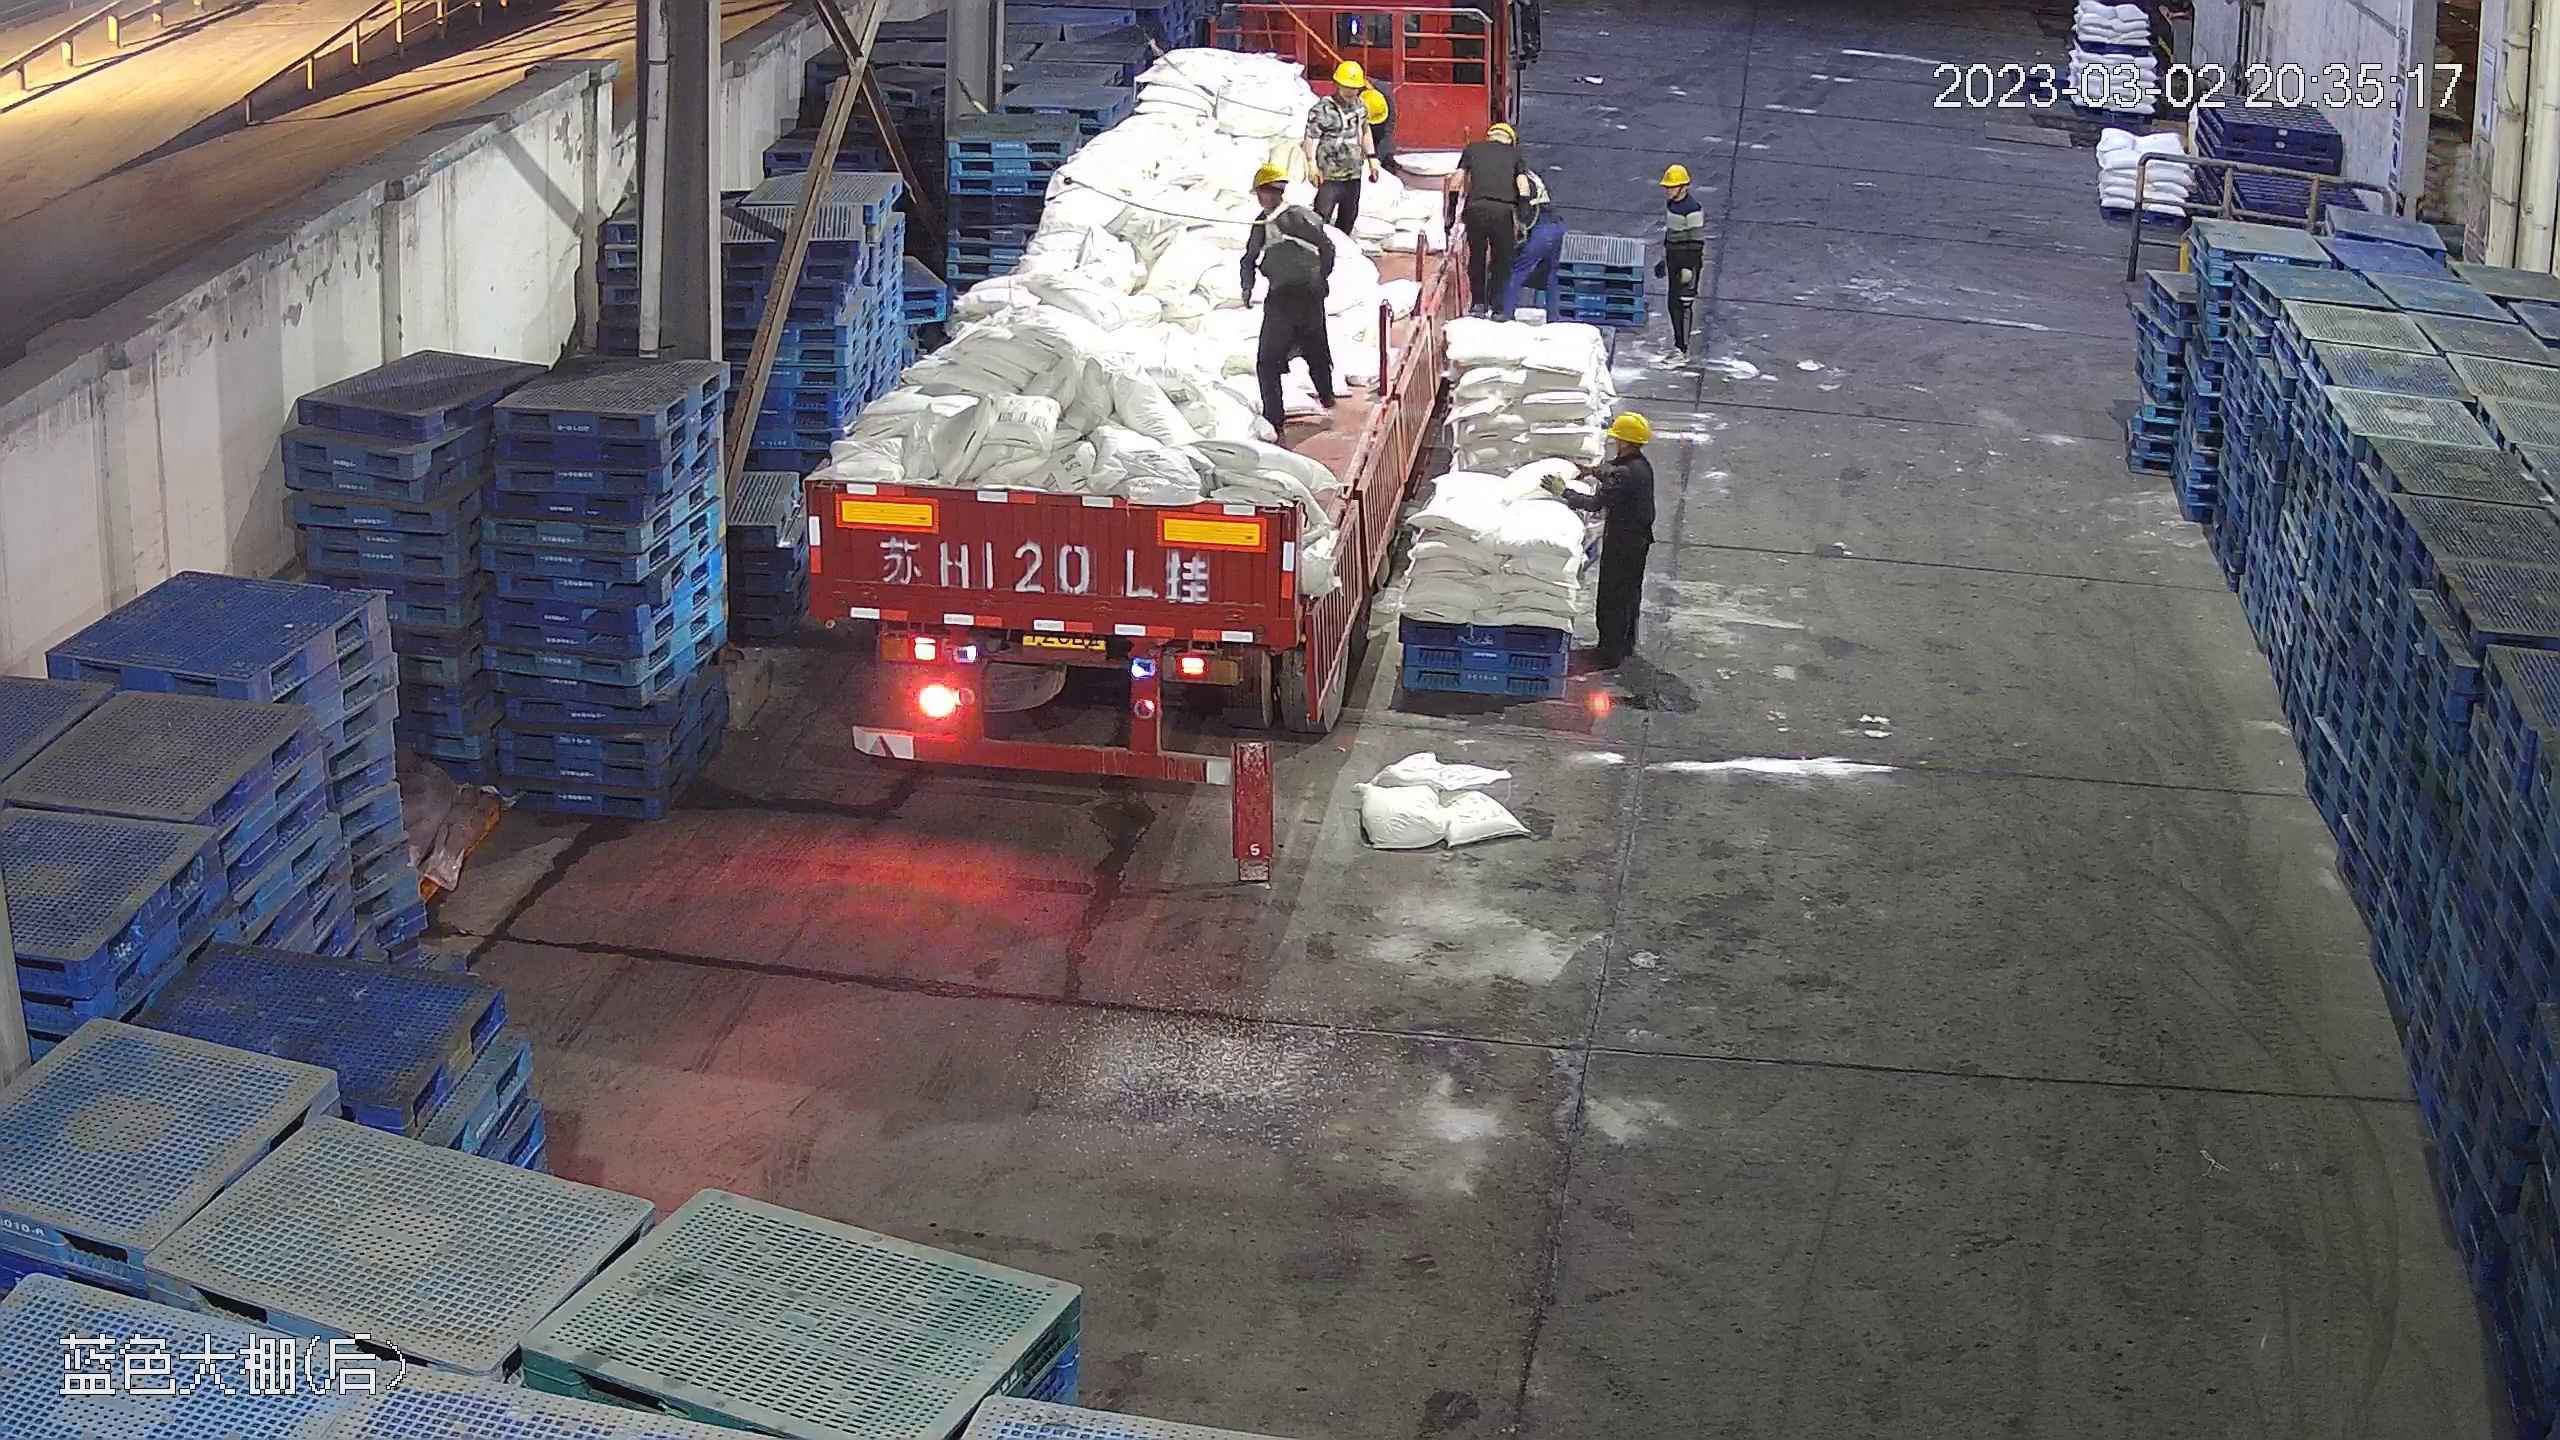belt: (1258, 197, 1331, 261), (1326, 101, 1364, 155), (1521, 164, 1552, 206)
head: (1242, 161, 1325, 242), (1590, 408, 1655, 505), (1304, 63, 1382, 141), (1469, 116, 1528, 176), (1654, 163, 1705, 230)
helmet: (1602, 409, 1653, 444), (1329, 60, 1374, 100), (1250, 158, 1290, 188), (1361, 88, 1389, 127), (1478, 117, 1517, 145), (1660, 162, 1691, 185)
people: (1237, 155, 1347, 431), (1555, 407, 1656, 669), (1297, 59, 1399, 261), (1464, 118, 1537, 325), (1651, 159, 1711, 366)
truck: (810, 18, 1487, 774)
